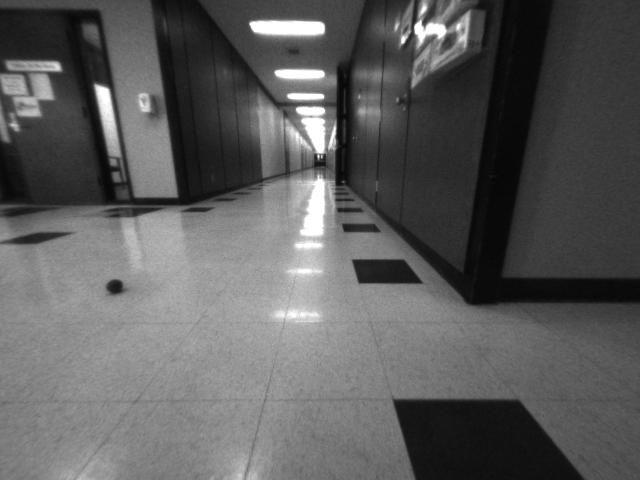dogtoy: (99, 266, 136, 300)
